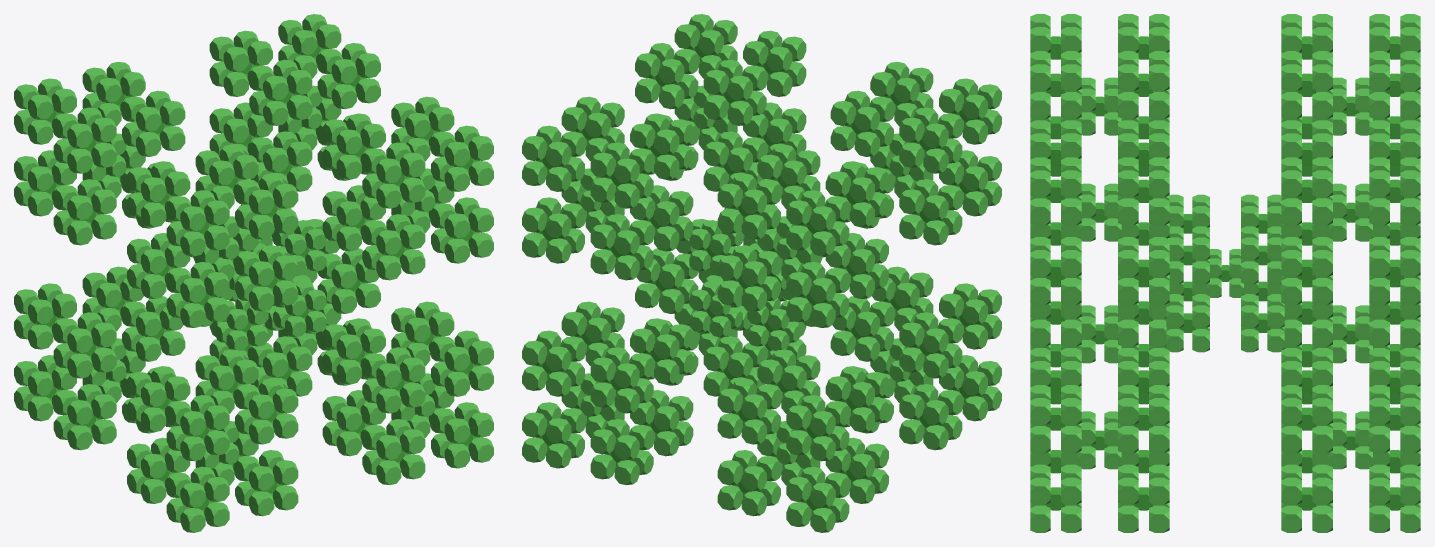
Rendered from fractaltruncatedcube3.glb.
3 renders of one model, left to right at view 1: azimuth 30°, elevation 25°; view 2: azimuth 150°, elevation 25°; view 3: azimuth 270°, elevation 25°, orthographic. The views are drawn at different scales.
Size of the model in its own units: 6.86 by 6.86 by 6.86.
